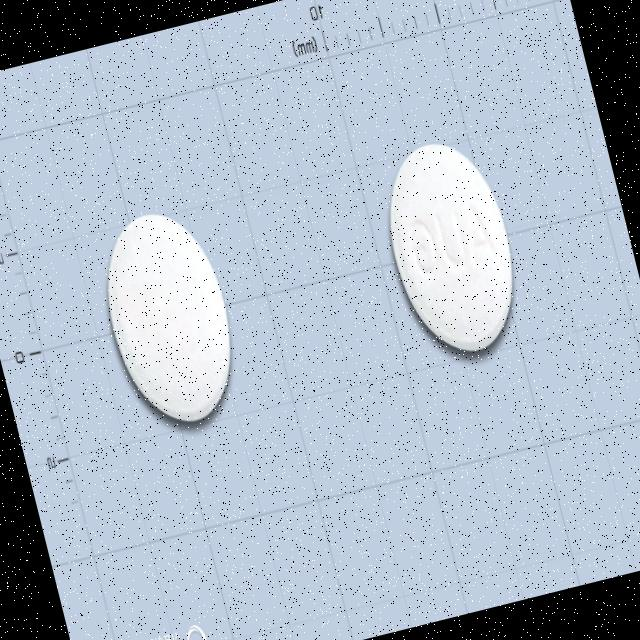Ilsung Augmentin - 625mg: (86, 198, 250, 436), (368, 129, 532, 365)
